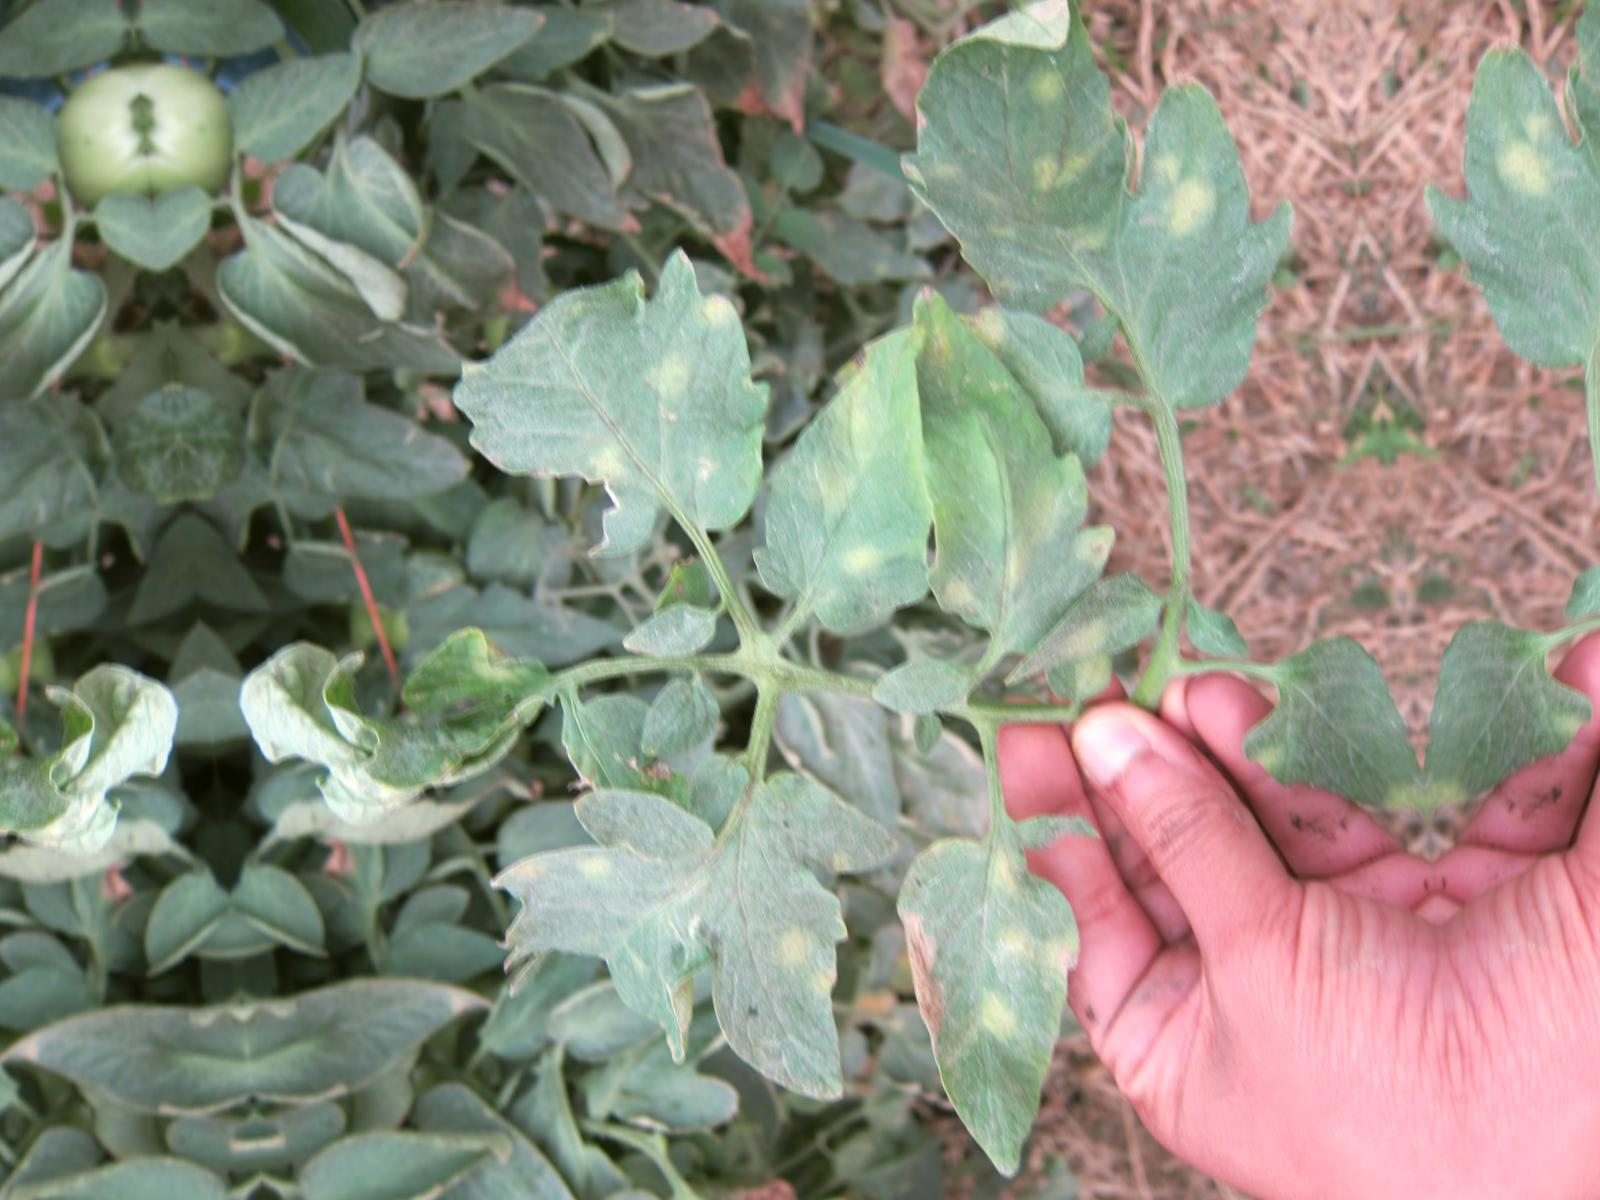Tomato mold leaf: (467, 753, 910, 1147), (441, 236, 790, 585), (1083, 0, 1318, 470), (916, 251, 1165, 692), (848, 809, 1128, 1200), (727, 295, 1044, 634), (860, 0, 1150, 334), (228, 606, 563, 839), (1221, 613, 1424, 846)
